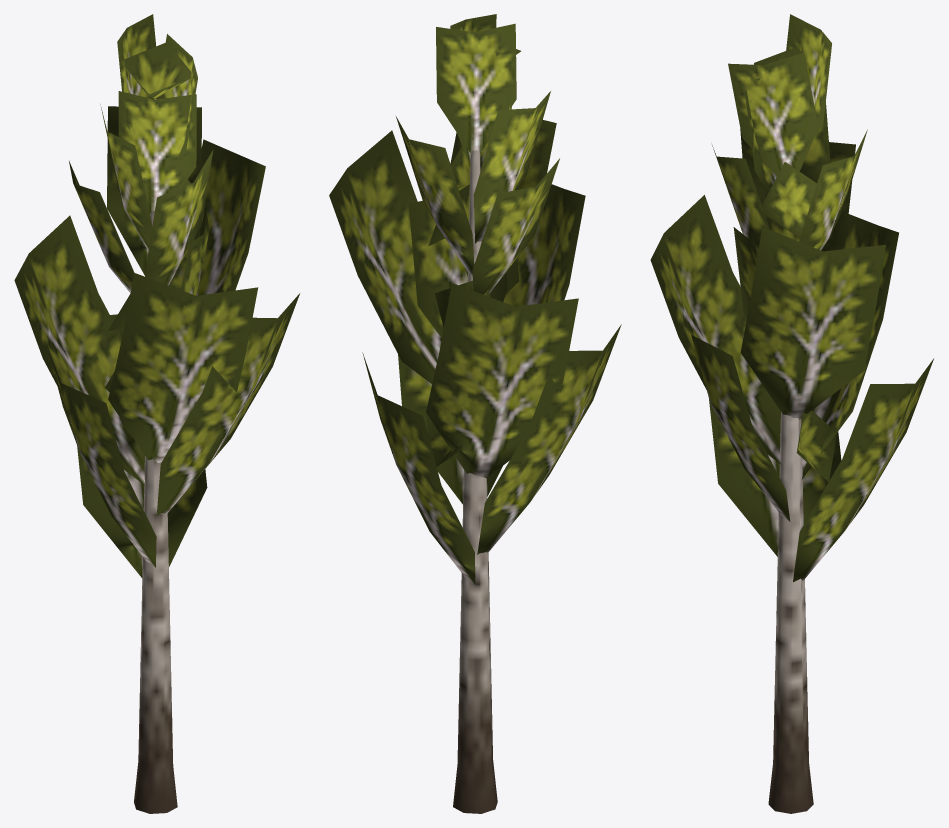
File: new_tree_03_3.FBX
3 views of the same model, side by side, from view 1: azimuth 30°, elevation 25°; view 2: azimuth 150°, elevation 25°; view 3: azimuth 270°, elevation 25° (orthographic). The views are drawn at different scales.
Visible parts, largest first — view 1: new_tree_03_3; view 2: new_tree_03_3; view 3: new_tree_03_3.
Boxes of the visible parts, box(x1,y1,x2,y2) form: new_tree_03_3: box(14, 14, 299, 813); new_tree_03_3: box(329, 14, 621, 813); new_tree_03_3: box(650, 14, 933, 813).
Size of the model in its own units: 47.3 by 148 by 49.22.
1 material, 1 textured.
